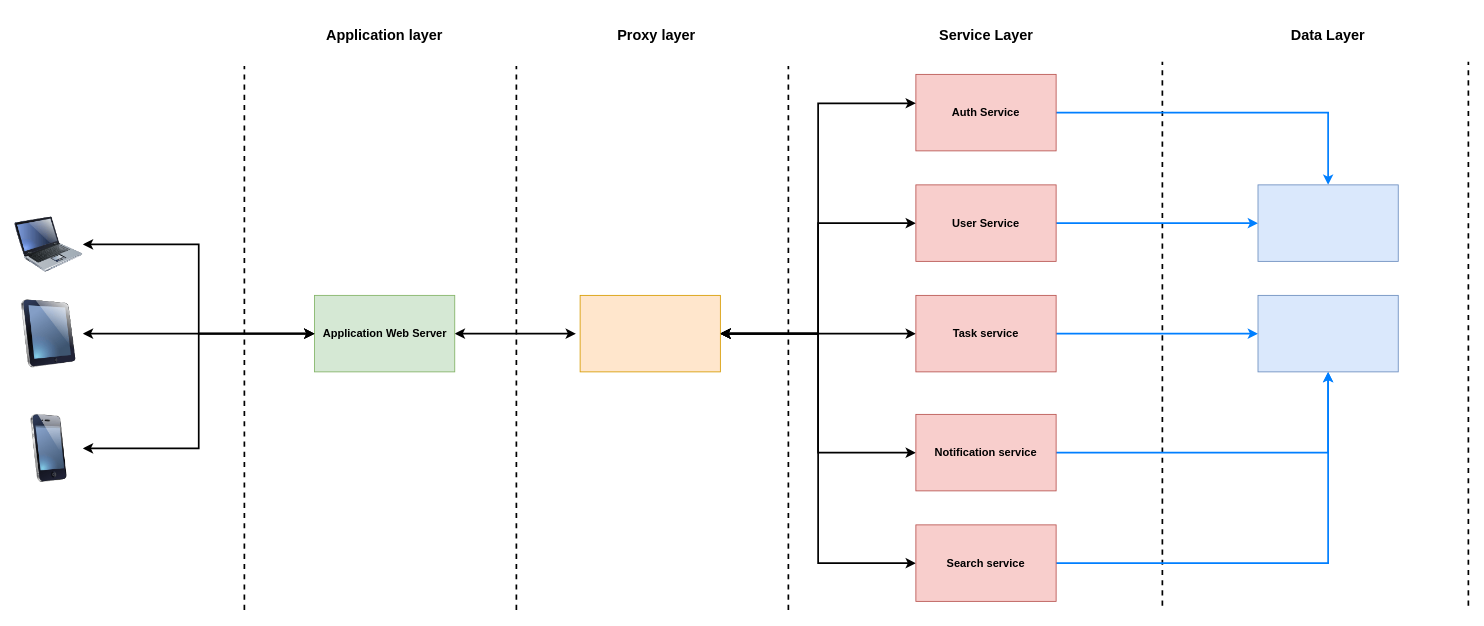
Image size: 1484x626. Some labels were removed from this diagram. Each missing label, with the box of its shape:
Database: (1257, 295, 1398, 372)
Directory: (1257, 184, 1398, 261)
Gateway Service: (579, 295, 720, 372)
